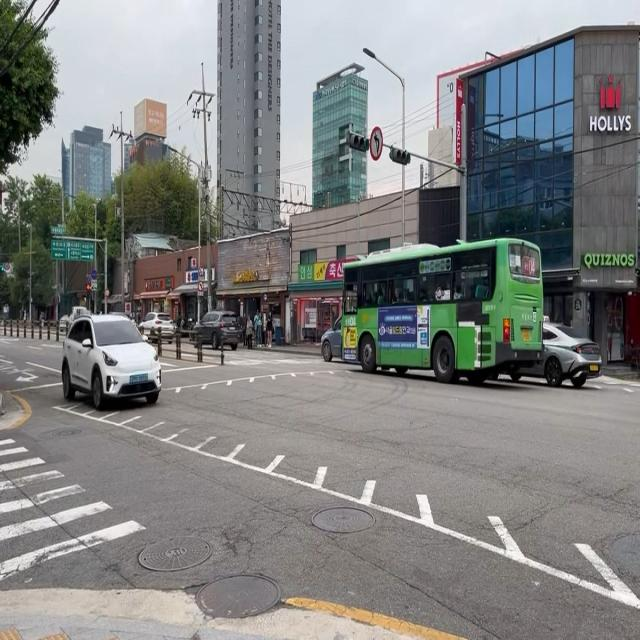building: (453, 22, 640, 366), (215, 0, 281, 239), (56, 96, 122, 256), (311, 62, 369, 211)
car: (333, 239, 556, 392), (61, 312, 161, 410), (500, 320, 602, 388), (320, 313, 342, 362)
